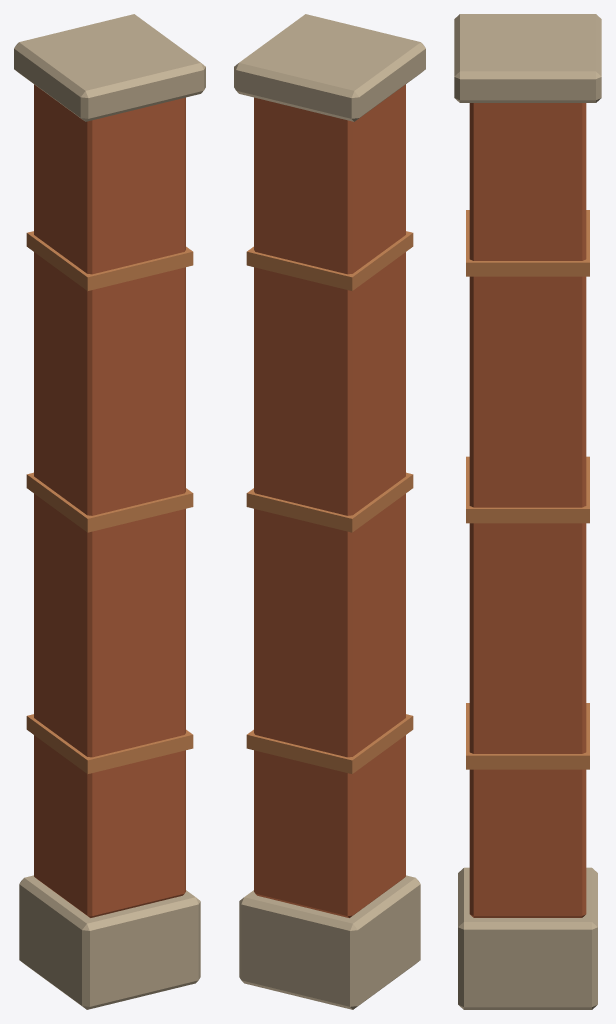
Rendered from hall_corner.glb.
3 renders of one model, left to right at view 1: azimuth 30°, elevation 25°; view 2: azimuth 150°, elevation 25°; view 3: azimuth 270°, elevation 25°, orthographic. The views are drawn at different scales.
Visible parts, largest first — view 1: pier; view 2: pier; view 3: pier.
Part boxes in pixels (box(x1,y1,x2,y2)): pier: box(14, 14, 205, 1009); pier: box(234, 14, 425, 1009); pier: box(454, 14, 601, 1009).
Bounding box in the file's own units: 0.76 × 5.34 × 0.76.
